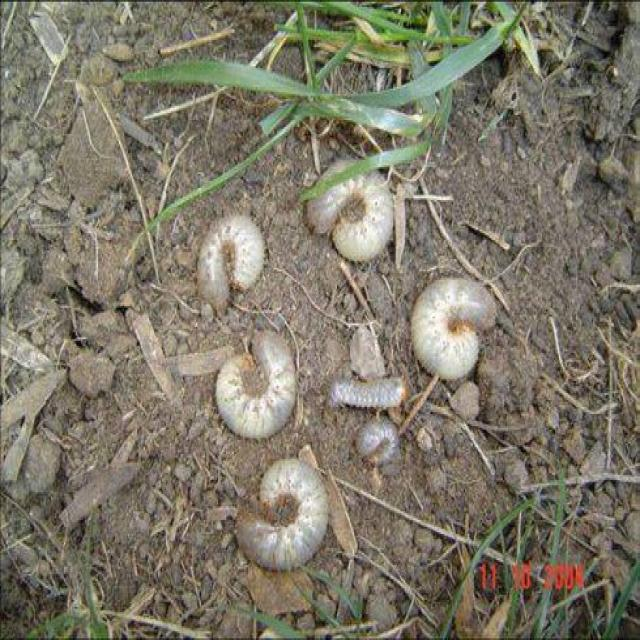Grub-Adult-: (226, 453, 344, 582), (300, 152, 408, 284), (398, 272, 513, 388), (181, 203, 283, 329), (210, 326, 307, 442), (328, 366, 416, 424), (344, 416, 416, 466)
